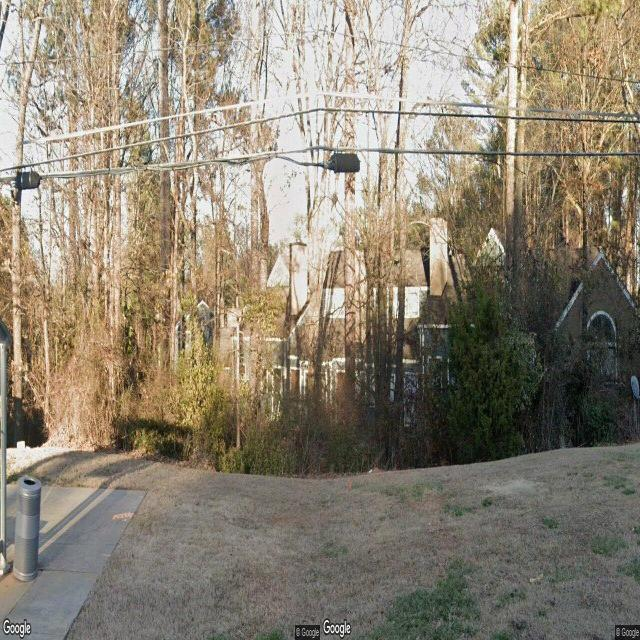shelter: (0, 318, 12, 584)
trash_can: (14, 474, 42, 582)
